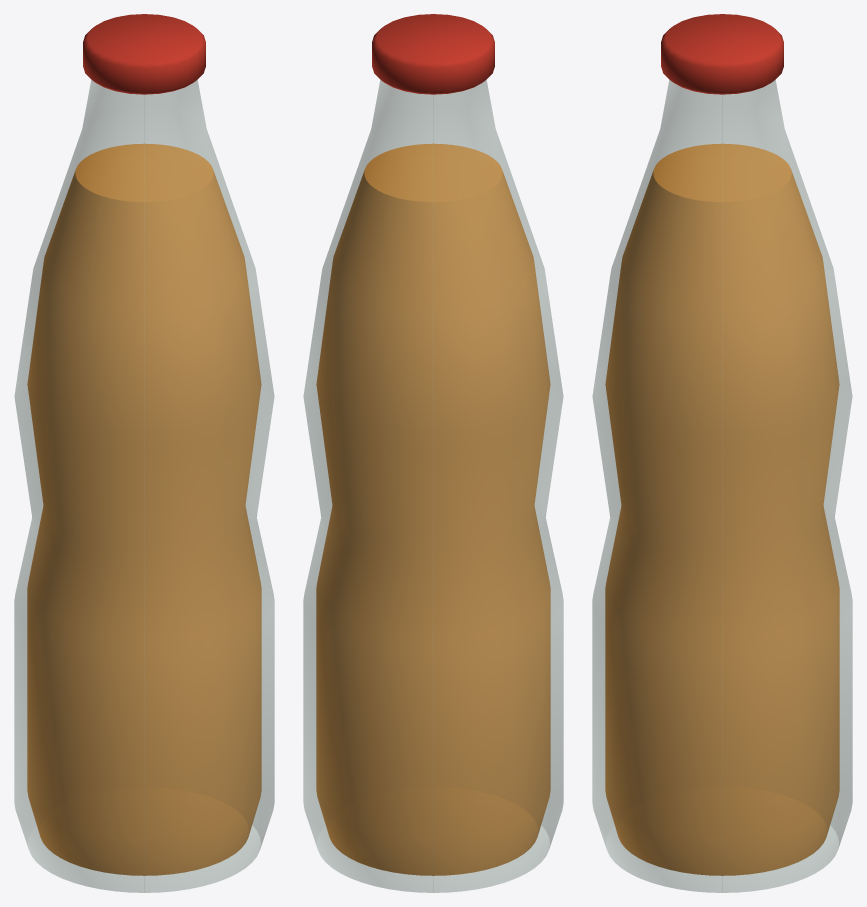
The model's file is ks-laranja.glb.
The picture shows the model from 3 angles, left to right: view 1: azimuth 30°, elevation 25°; view 2: azimuth 150°, elevation 25°; view 3: azimuth 270°, elevation 25°; orthographic projection.
Parts seen in each view (by area): view 1: ks-laranja; view 2: ks-laranja; view 3: ks-laranja.
Boxes of the visible parts, x1,y1,x2,y2 form: ks-laranja: (14, 14, 274, 892); ks-laranja: (303, 14, 563, 892); ks-laranja: (592, 14, 852, 892).
Size of the model in its own units: 0.058 by 0.1982 by 0.058.
